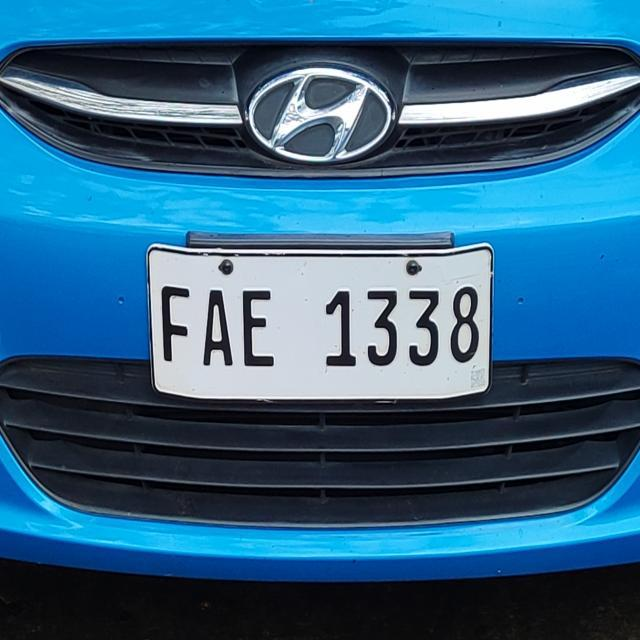LicensePlate: (128, 231, 506, 419)
